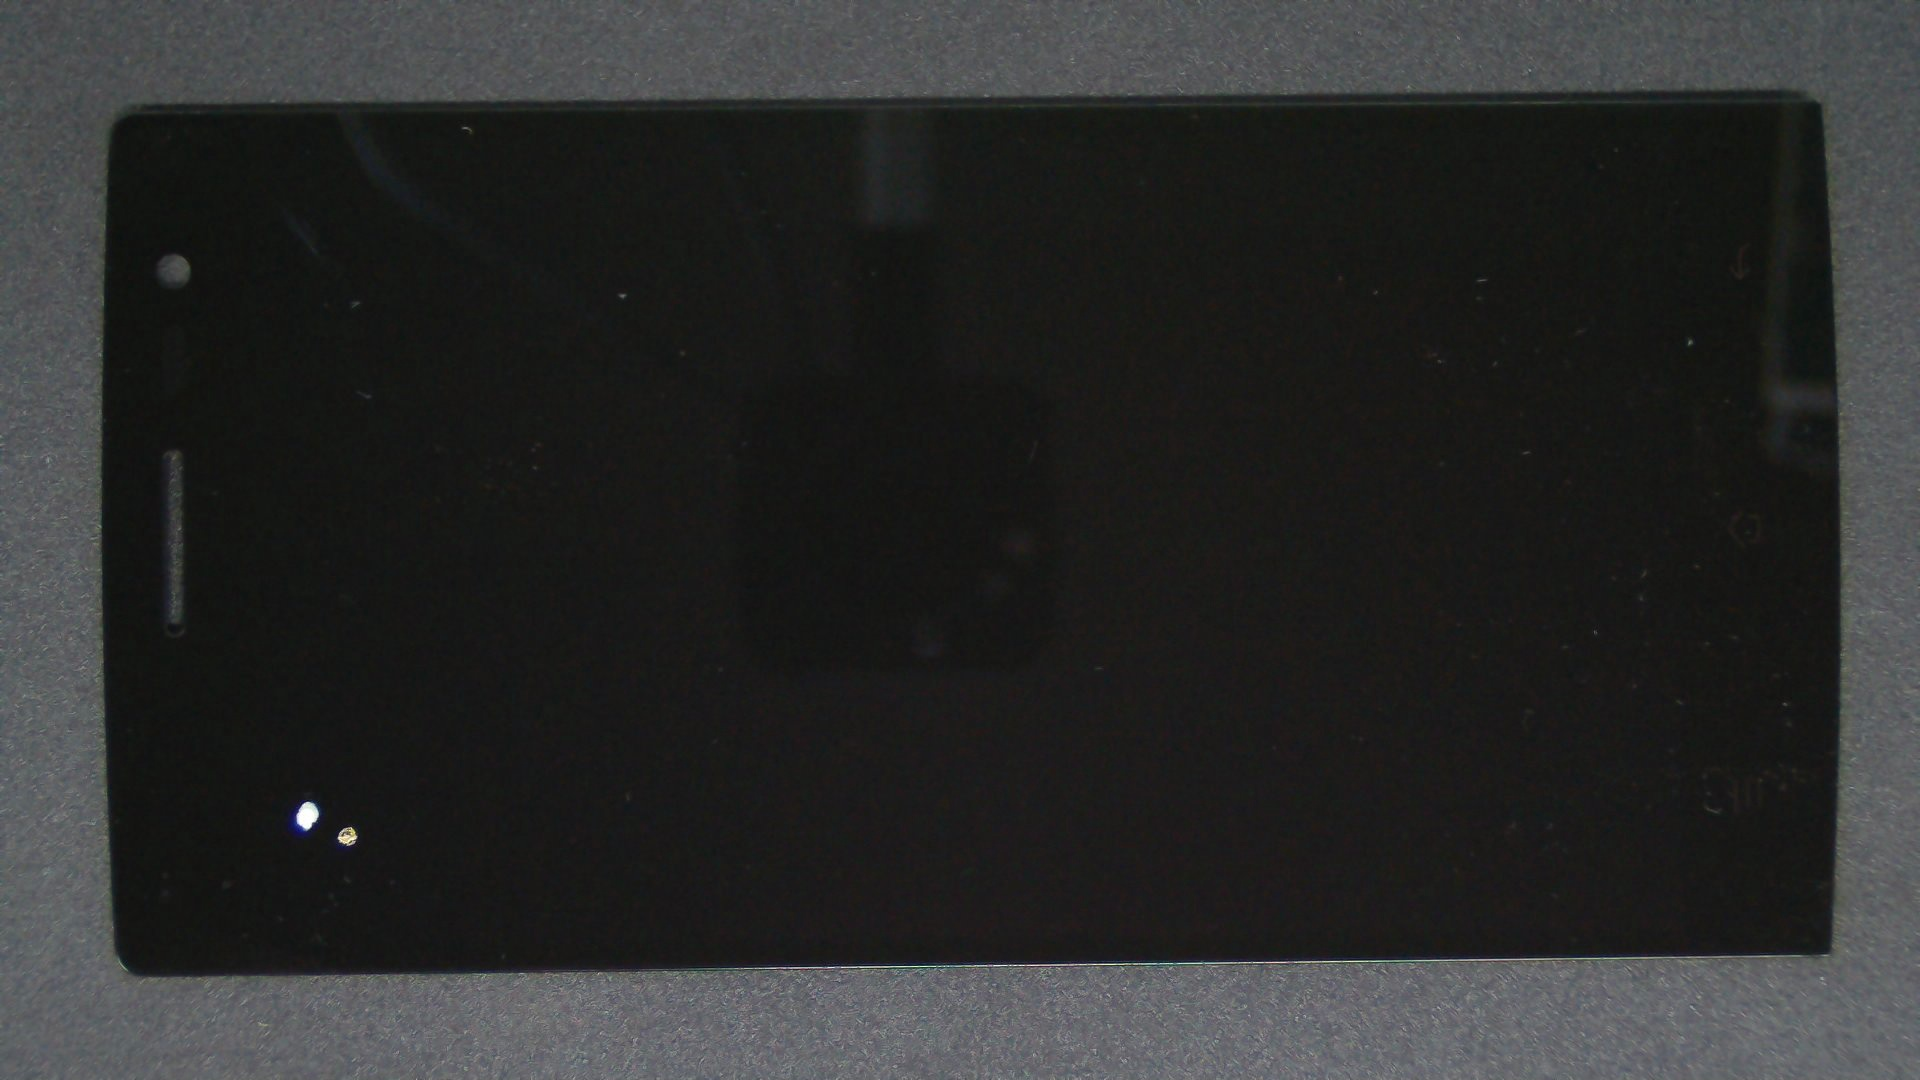oil: (177, 411, 527, 1080), (153, 400, 459, 1080)
